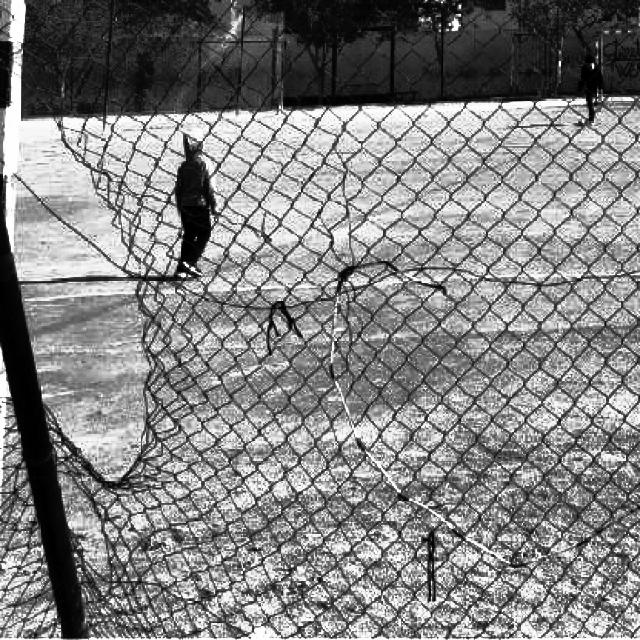anomaly-fence: (0, 0, 148, 557)
